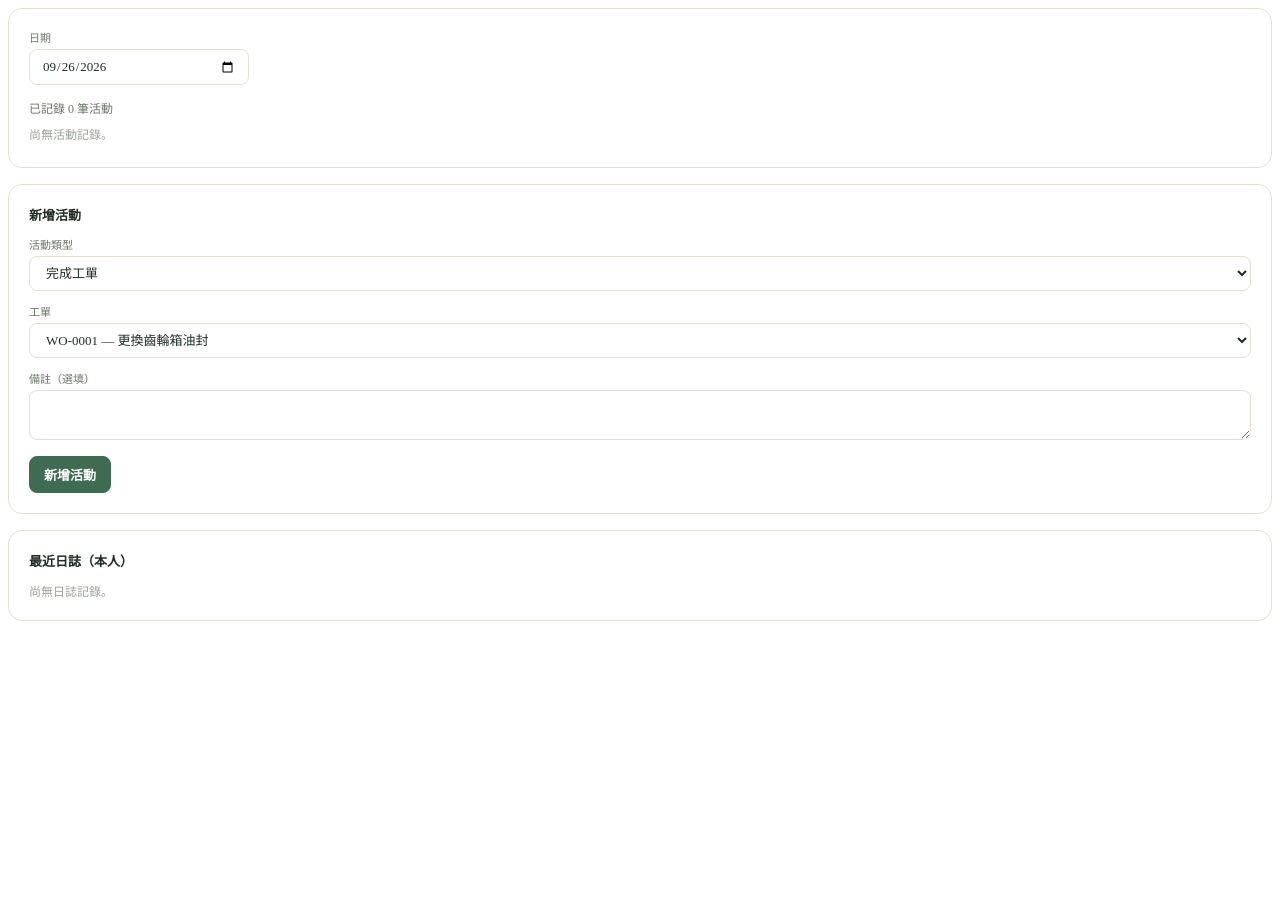
it: DayWorkFormPanel 新增活動表單 — kind 切換與 canSubmit gating › 切到 patrol：area 為空 disabled，填入後 enabled
Select "巡視" in the dropdown labelled "活動類型" at (640, 274), box [29,256,1251,291]
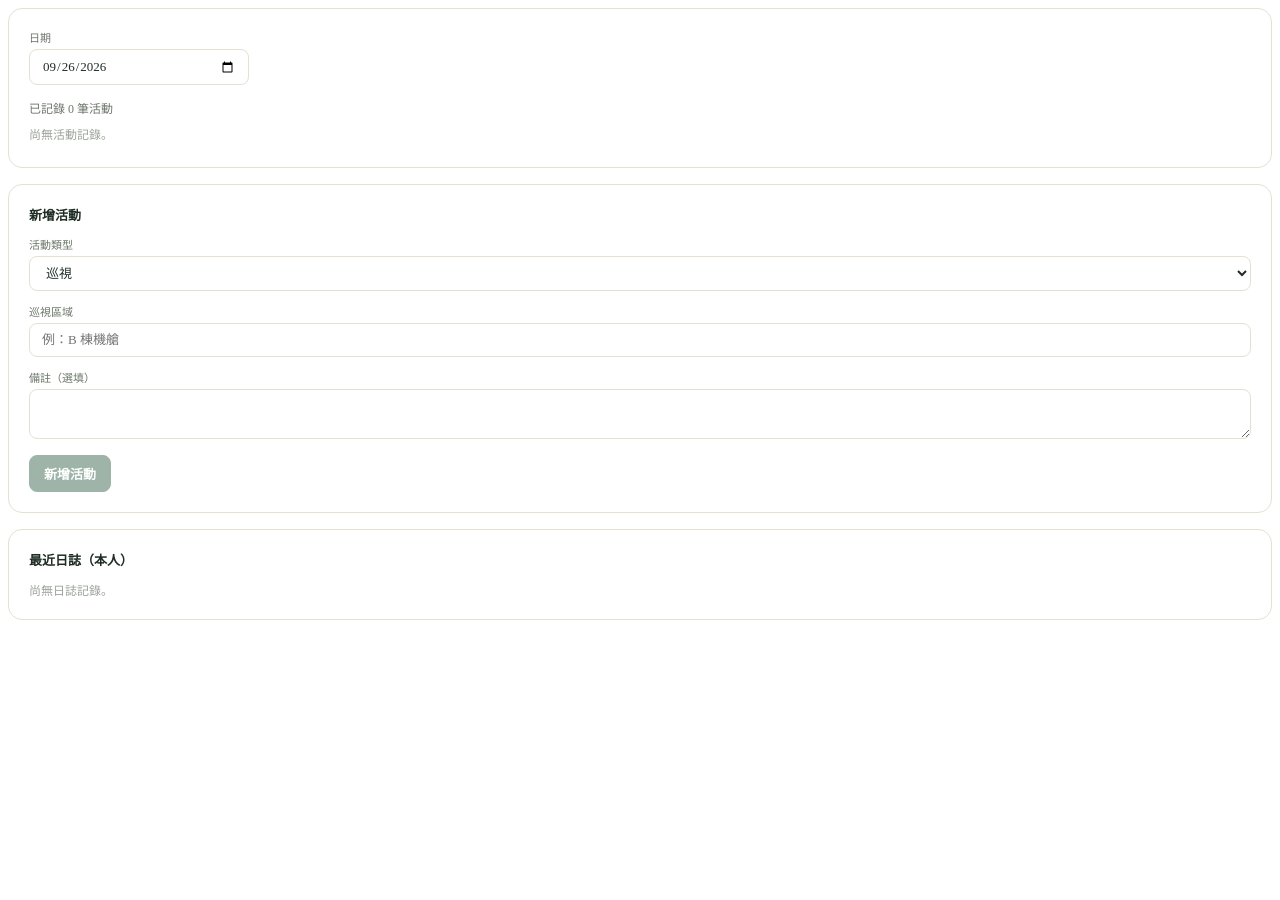
Result: the button "新增活動" is disabled at [29,455,111,492]
Type "B 棟機艙" into the field labelled "巡視區域" at (640, 340), box [29,323,1251,357]
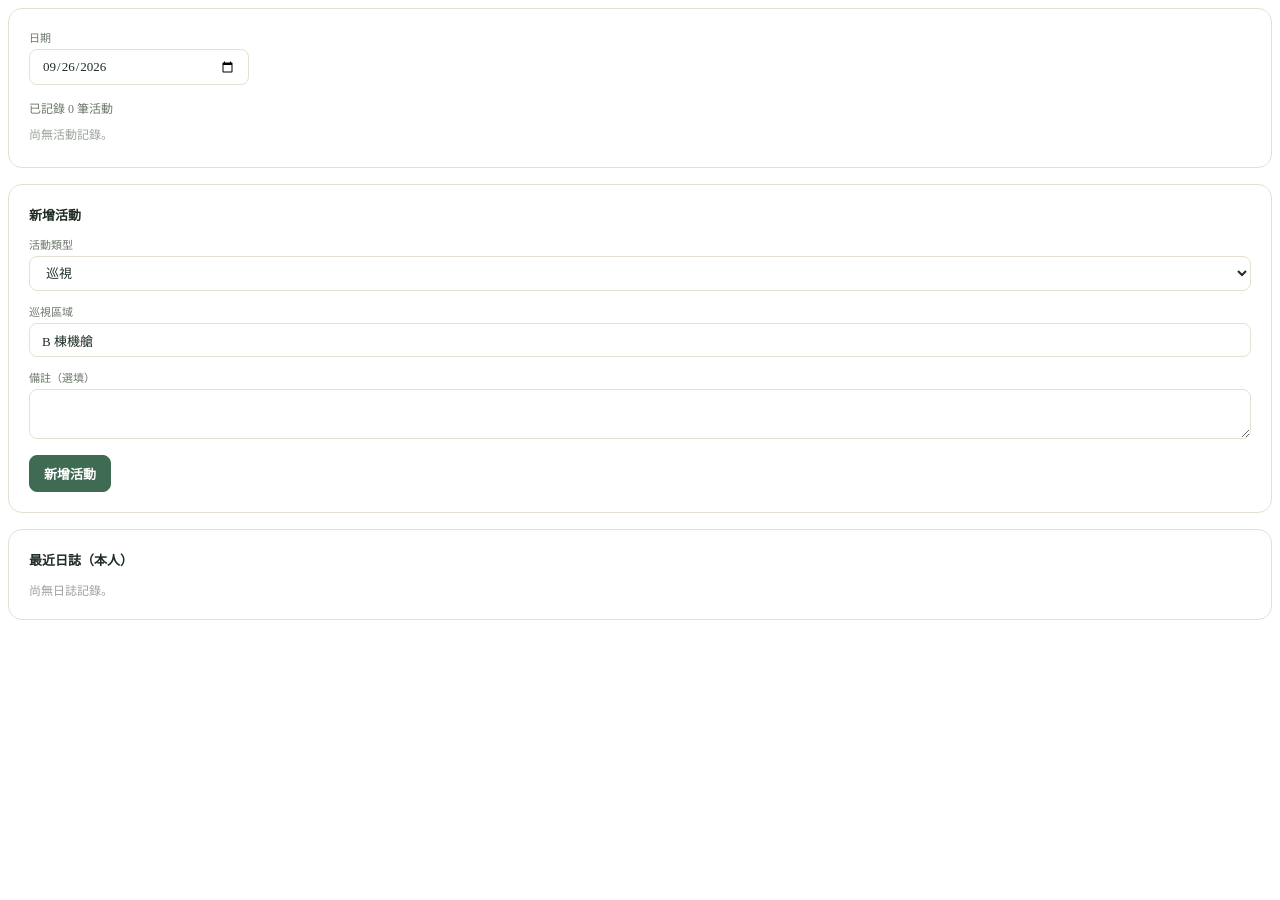
Result: the button "新增活動" is enabled at [29,455,111,492]
